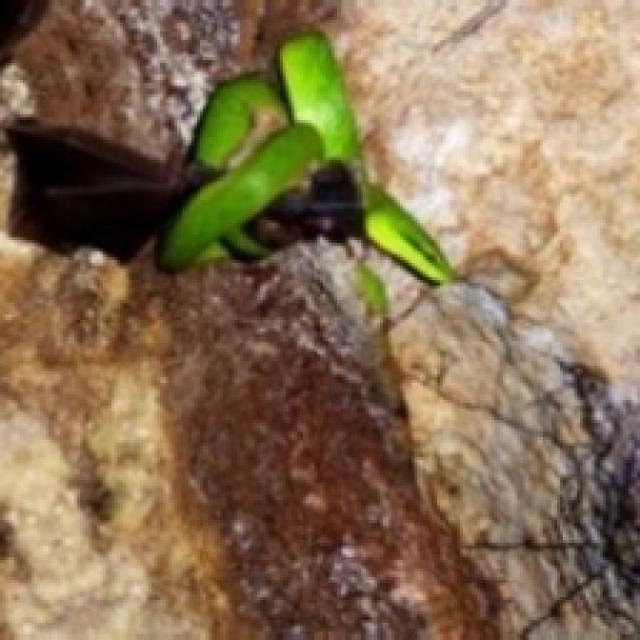red-tailed green ratsnake: (9, 31, 454, 283)
